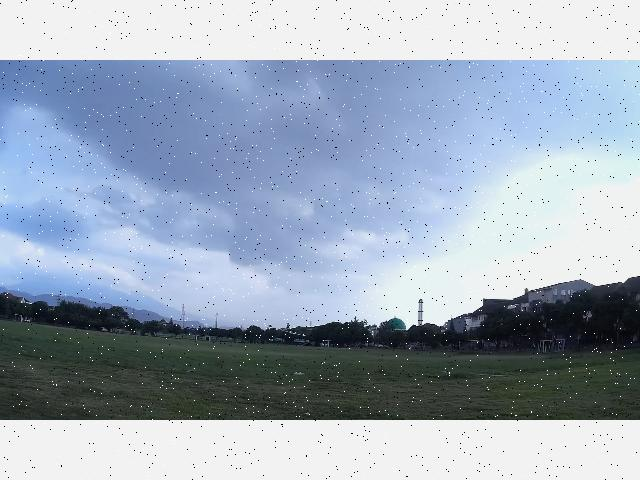Anti-Drone: (270, 323, 320, 349)
